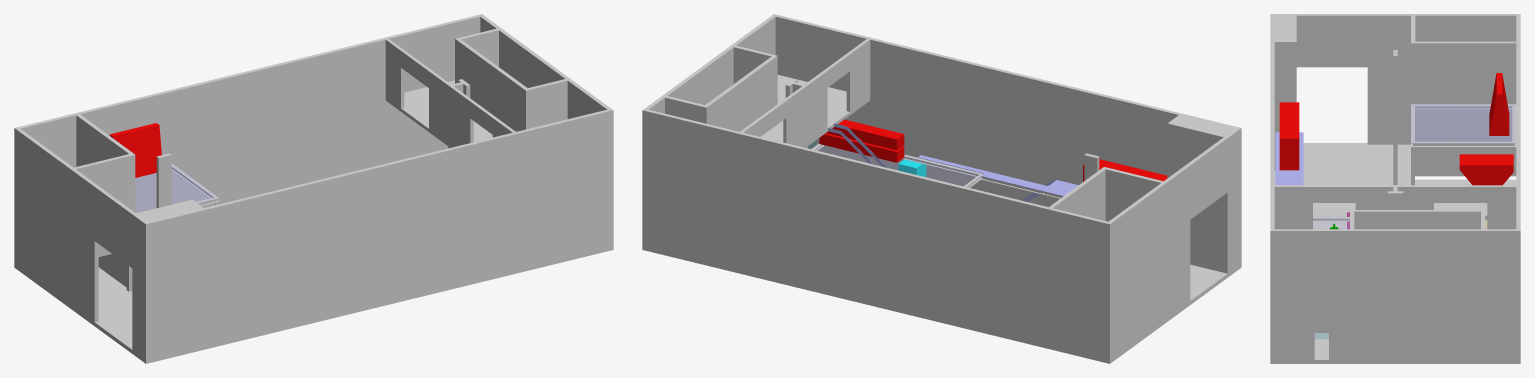
File: neubau.glb
3 renders of one model, left to right at view 1: azimuth 30°, elevation 25°; view 2: azimuth 150°, elevation 25°; view 3: azimuth 270°, elevation 25°, orthographic. The views are drawn at different scales.
Parts seen in each view (by area): view 1: Form 1 (×10); view 2: Form 1 (×12); view 3: Form 1 (×14), Shape 2 (×2).
Boxes of the visible parts, x1=… form: Form 1 (×10): x1=14, y1=14, x2=613, y2=363; Form 1 (×12): x1=642, y1=14, x2=1241, y2=363; Form 1 (×14): x1=1270, y1=14, x2=1520, y2=363; Shape 2 (×2): x1=1411, y1=104, x2=1515, y2=146.
Bounding box in the file's own units: 36.1 × 10.3 × 17.6.
